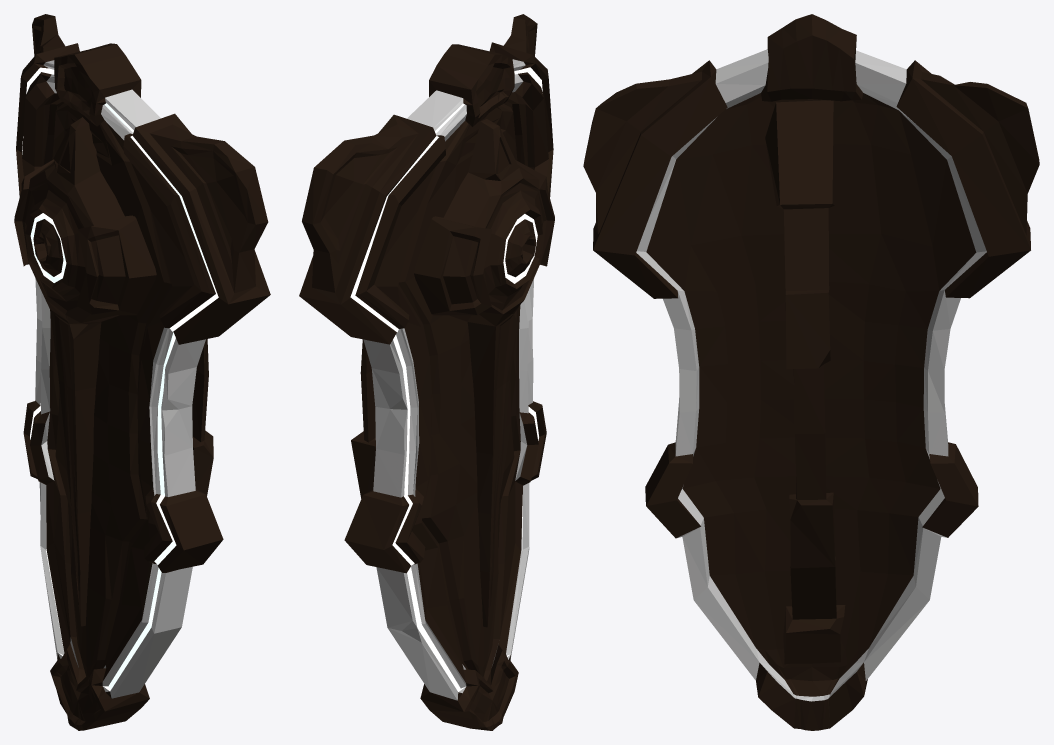
File: SFFA_Shield_Stylized_001.fbx
3 renders of one model, left to right at view 1: azimuth 30°, elevation 25°; view 2: azimuth 150°, elevation 25°; view 3: azimuth 270°, elevation 25°, orthographic. The views are drawn at different scales.
Parts seen in each view (by area): view 1: SFFA_Shield_Stylized_001; view 2: SFFA_Shield_Stylized_001; view 3: SFFA_Shield_Stylized_001.
Part boxes in pixels (<box>): SFFA_Shield_Stylized_001: <box>14,14,270,730</box>; SFFA_Shield_Stylized_001: <box>299,14,554,730</box>; SFFA_Shield_Stylized_001: <box>583,14,1039,730</box>.
Bounding box in the file's own units: 35.27 × 135 × 80.25.
